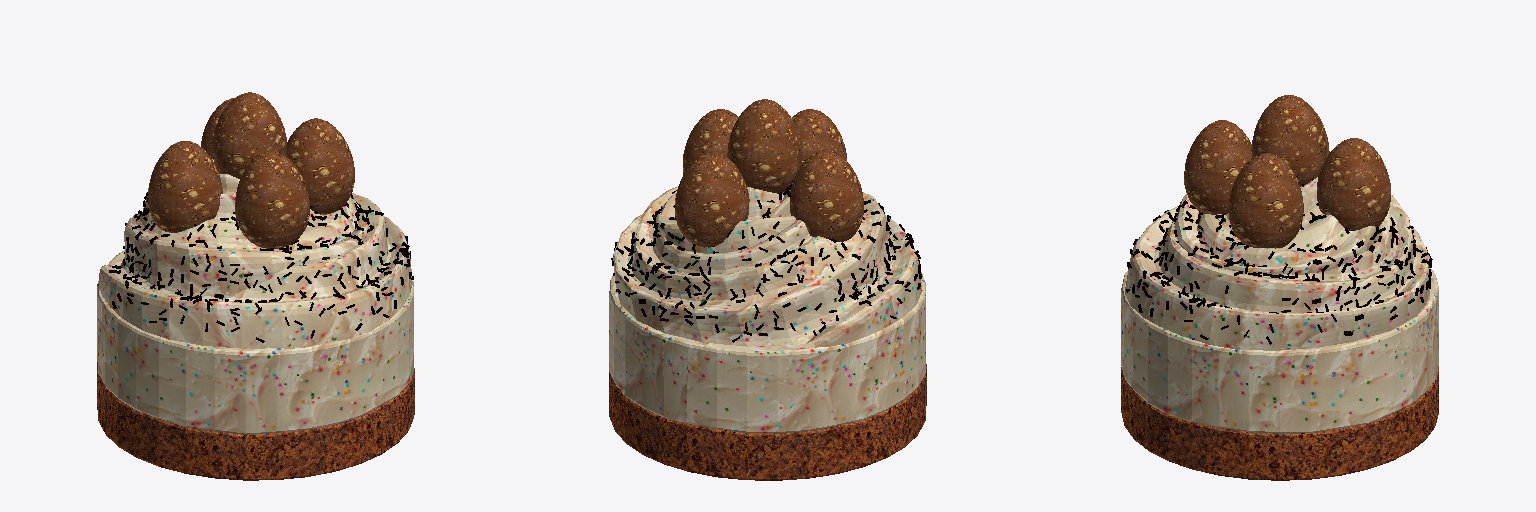
The picture shows the model from 3 angles: view 1: azimuth 30°, elevation 25°; view 2: azimuth 150°, elevation 25°; view 3: azimuth 270°, elevation 25°; orthographic projection.
Parts seen in each view (by area): view 1: Cylinder, Plane, Egg01.003_Sphere.003, Egg01.004_Sphere.004, Egg01.002_Sphere.002, Egg01_Sphere.010, Egg01.001_Sphere.001; view 2: Cylinder, Plane, Egg01.001_Sphere.001, Egg01_Sphere.010, Egg01.004_Sphere.004, Egg01.002_Sphere.002, Egg01.003_Sphere.003; view 3: Cylinder, Plane, Egg01.002_Sphere.002, Egg01.001_Sphere.001, Egg01.003_Sphere.003, Egg01_Sphere.010.
Part boxes in pixels (x1,y1,x2,y2): Cylinder: (97, 250, 414, 480); Plane: (99, 159, 412, 348); Egg01.003_Sphere.003: (235, 151, 309, 248); Egg01.004_Sphere.004: (148, 141, 222, 232); Egg01.002_Sphere.002: (287, 118, 354, 214); Egg01_Sphere.010: (212, 92, 287, 178); Egg01.001_Sphere.001: (201, 98, 233, 158); Cylinder: (609, 272, 926, 480); Plane: (613, 187, 922, 347); Egg01.001_Sphere.001: (675, 152, 749, 247); Egg01_Sphere.010: (727, 99, 802, 193); Egg01.004_Sphere.004: (790, 150, 863, 241); Egg01.002_Sphere.002: (683, 109, 738, 174); Egg01.003_Sphere.003: (792, 109, 846, 163); Cylinder: (1121, 268, 1438, 480); Plane: (1125, 177, 1429, 350); Egg01.002_Sphere.002: (1228, 153, 1303, 247); Egg01.001_Sphere.001: (1317, 138, 1390, 230); Egg01.003_Sphere.003: (1184, 120, 1251, 214); Egg01_Sphere.010: (1251, 95, 1326, 186).
Size of the model in its own units: 2.53 by 2.79 by 2.53.
4 materials, 3 textured.